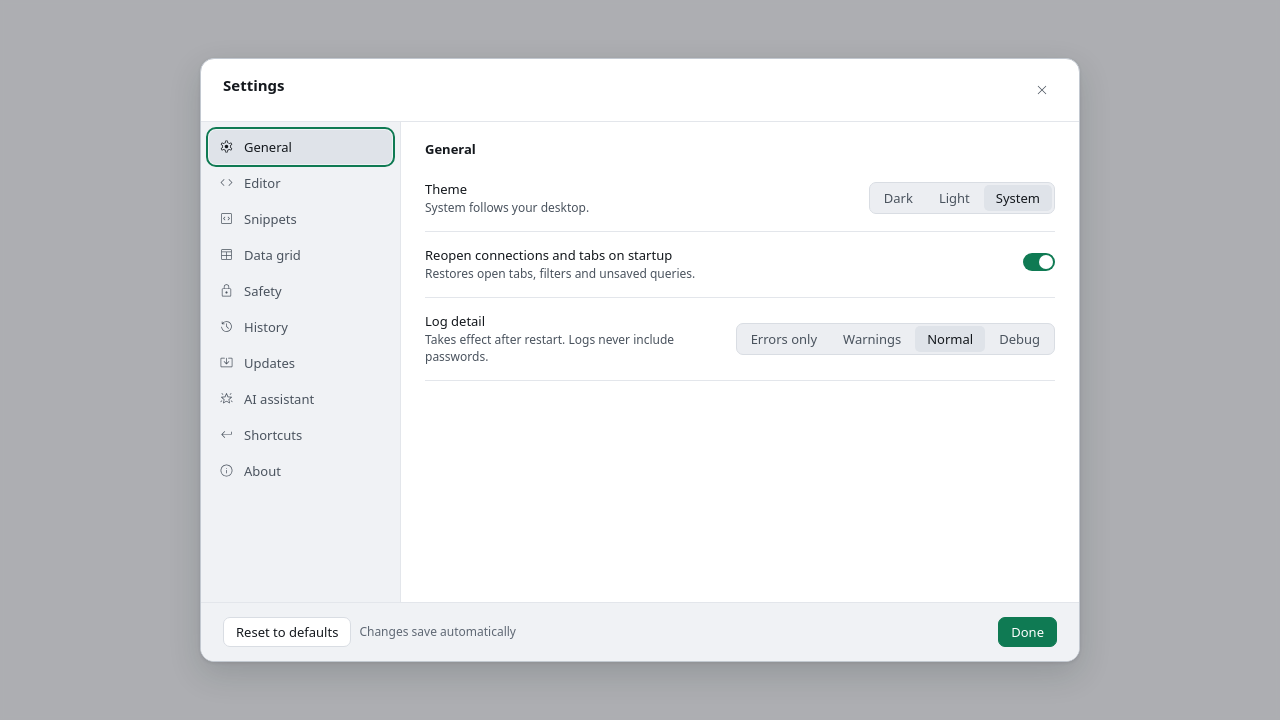
SettingsDialog › has the ten sections, one shown at a time
Check: the heading "General" is shown, box x1=425 y1=140 x2=476 y2=158
Click the button "Updates".
click(300, 363)  # box x1=209 y1=346 x2=392 y2=380
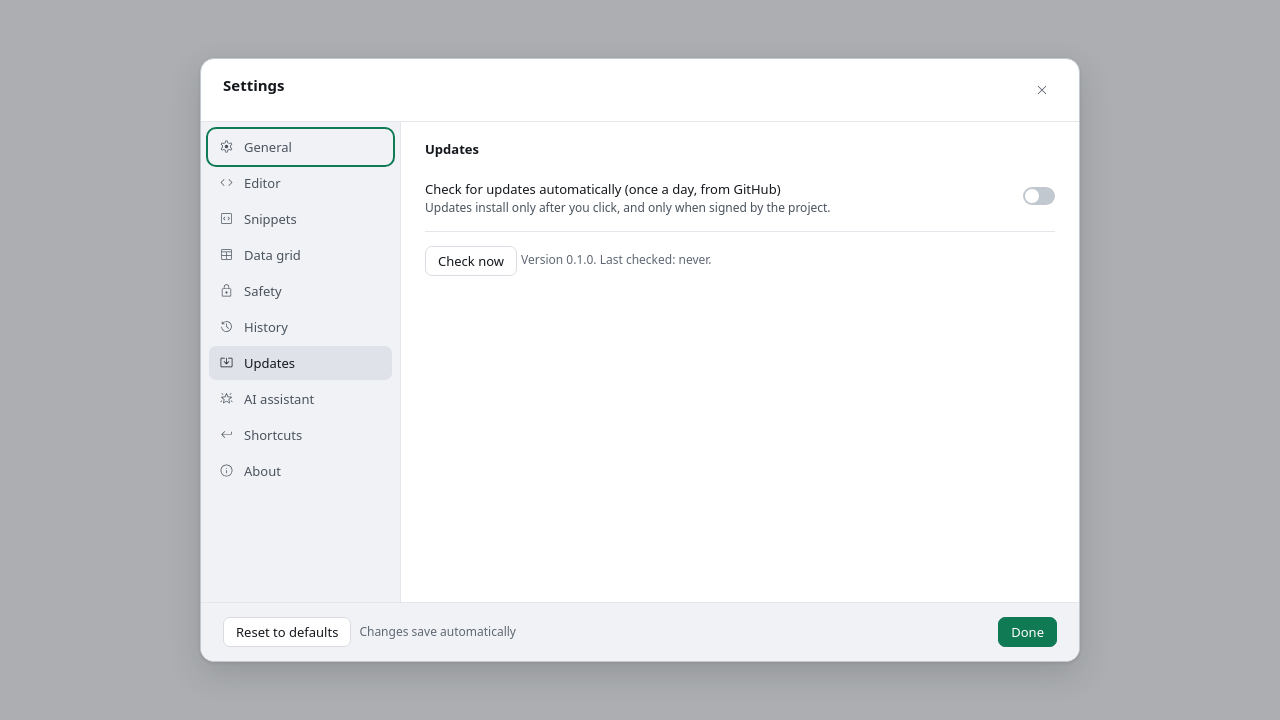
Check: the heading "Updates" is shown, box x1=425 y1=140 x2=479 y2=158
Check: the button "Check now" is shown, box x1=425 y1=246 x2=517 y2=276
